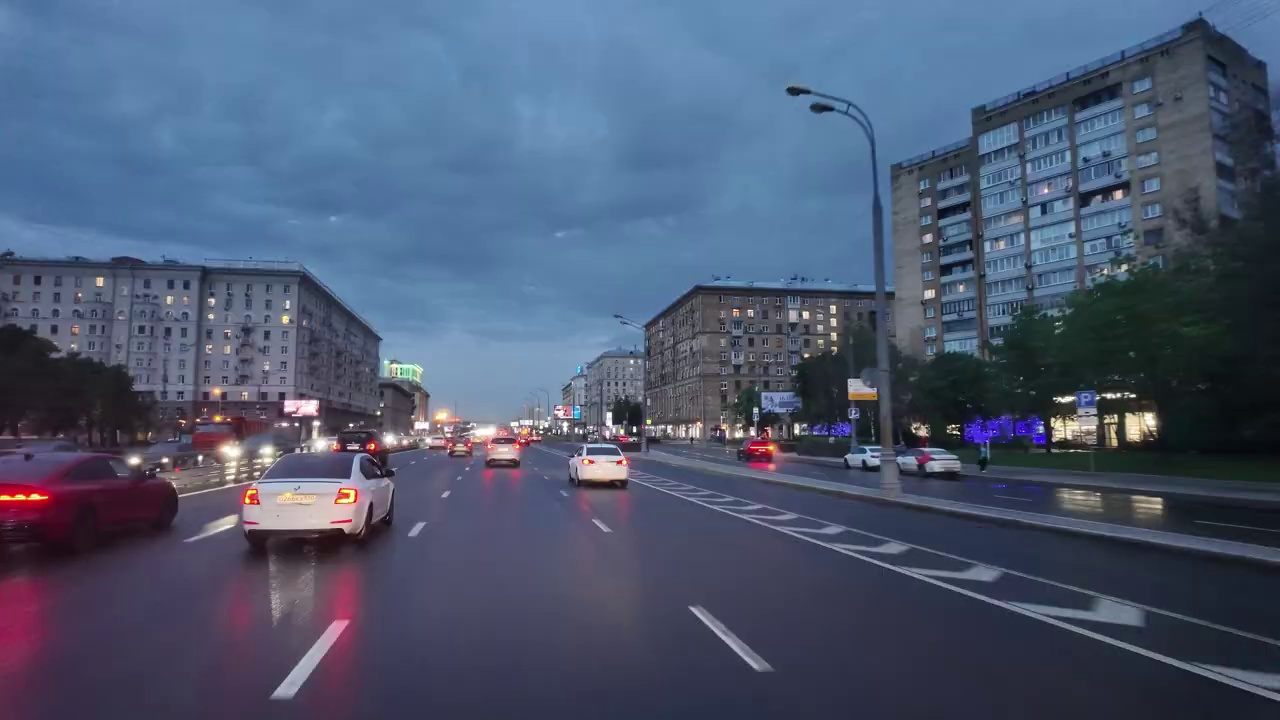apagada: (782, 79, 831, 119)
